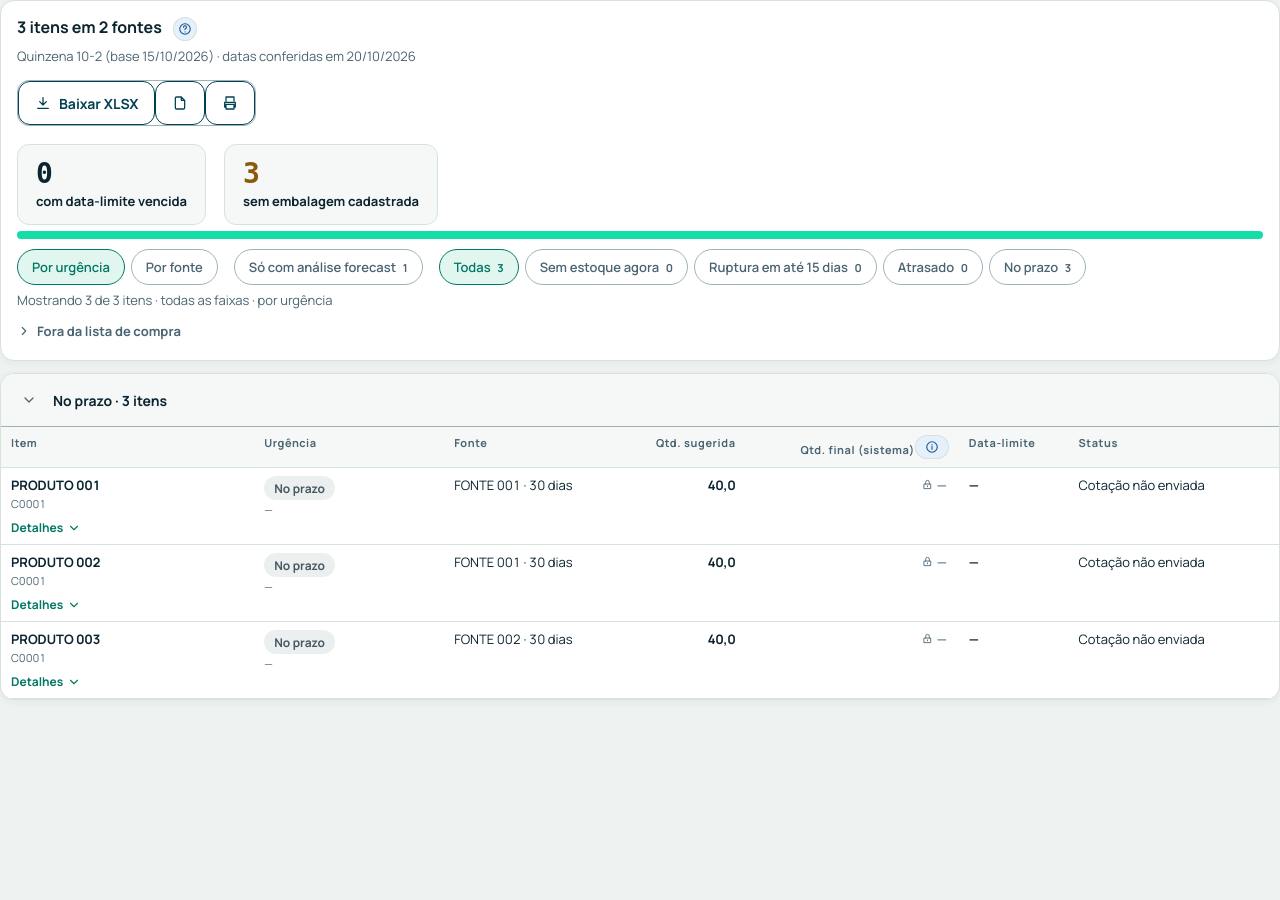
Test: ForecastRelatorioCompras - filtro "so com analise forecast" › funciona tambem na visao por fonte: grupo sem item preenchido some
The width and height of the screenshot is (1280, 900).
Expected: the text "3 itens em 2 fontes" is shown, x1=17 y1=16 x2=197 y2=41
Click the button "Por fonte".
click(174, 267)  # box x1=131 y1=249 x2=218 y2=285
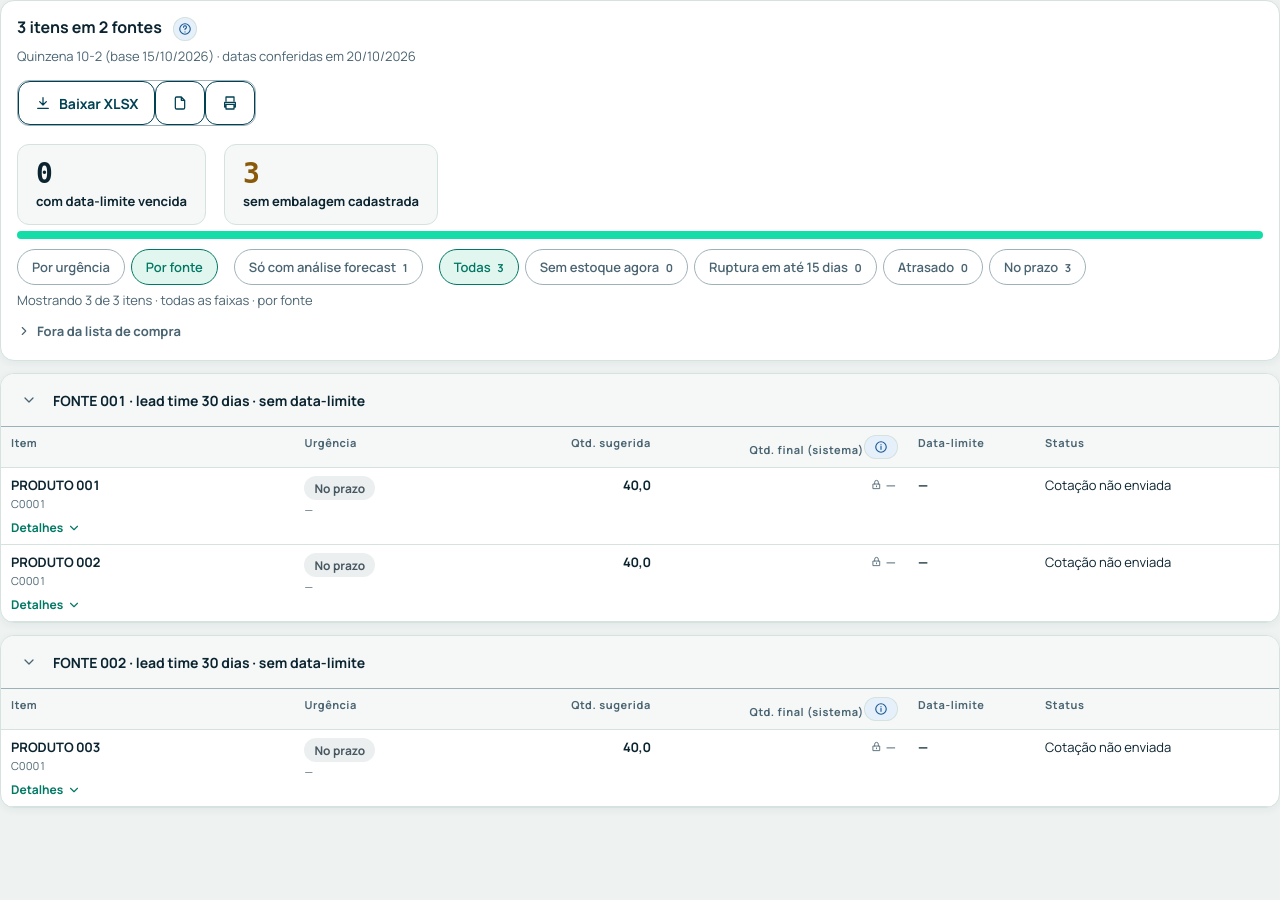
Click the button "Só com análise forecast 1".
click(328, 267)  # box x1=234 y1=249 x2=423 y2=285
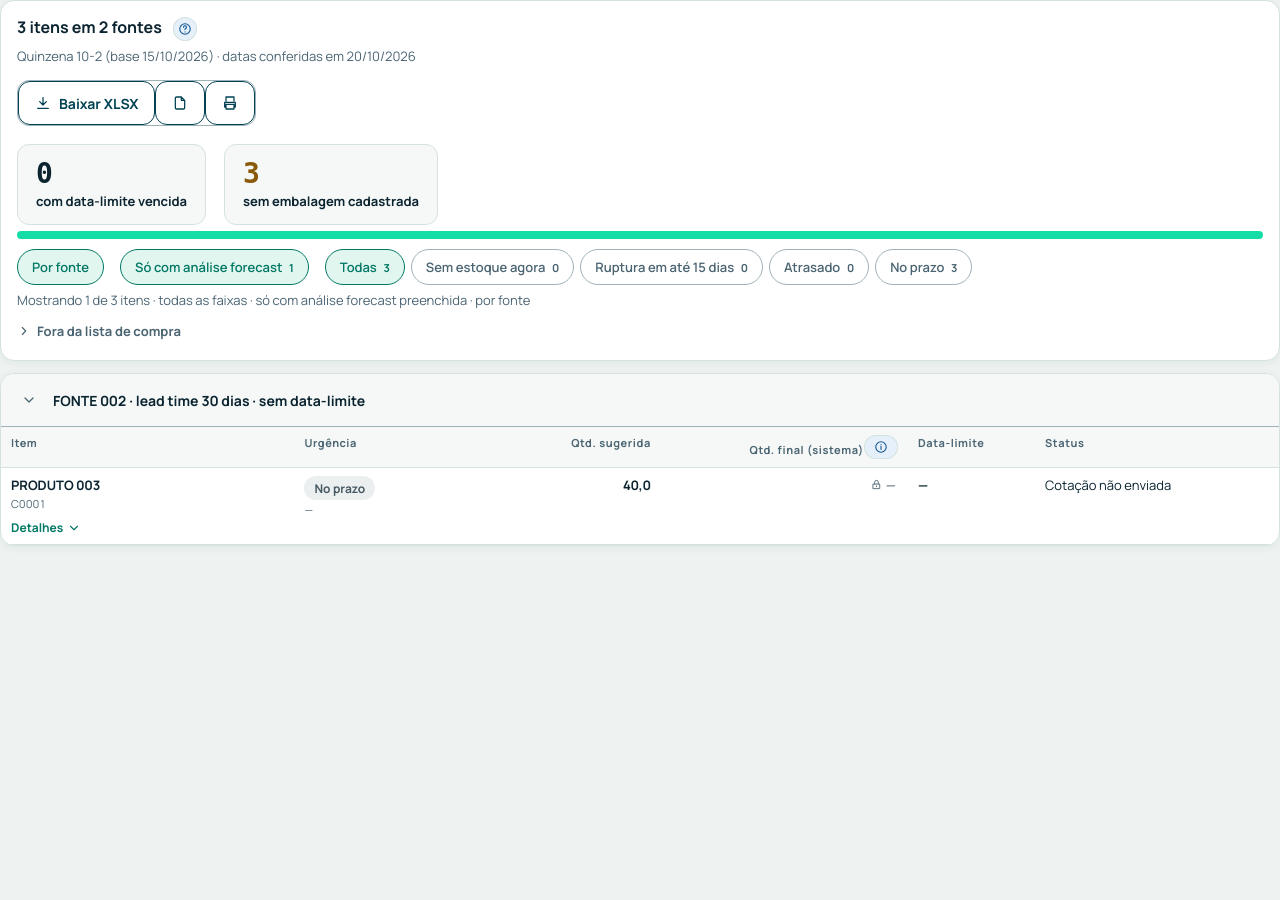
Result: the text "FONTE 001" is gone
